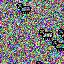sheep: (16, 3, 32, 14), (51, 39, 64, 52), (39, 29, 53, 39), (58, 28, 64, 38)
